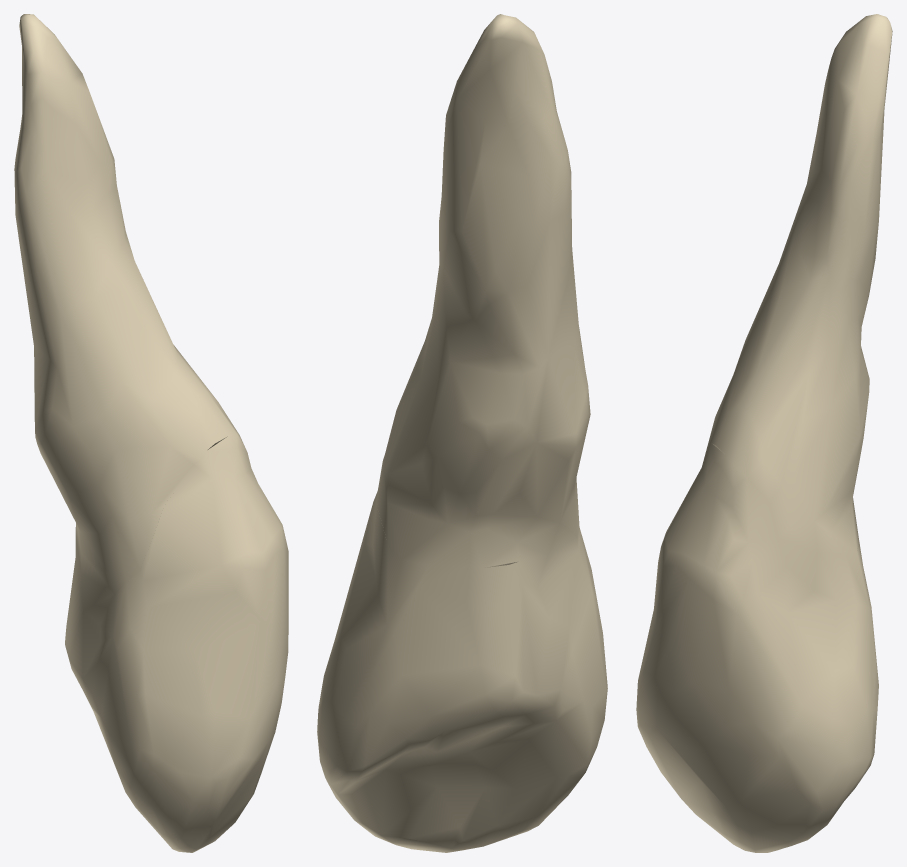
Rendered from esqueleto-upper-canine-l.glb.
3 renders of one model, left to right at view 1: azimuth 30°, elevation 25°; view 2: azimuth 150°, elevation 25°; view 3: azimuth 270°, elevation 25°, orthographic. The views are drawn at different scales.
Parts seen in each view (by area): view 1: Upper canine.l; view 2: Upper canine.l; view 3: Upper canine.l.
Part boxes in pixels (box(x1,y1,x2,y2)): Upper canine.l: box(14, 14, 288, 852); Upper canine.l: box(317, 14, 607, 852); Upper canine.l: box(636, 14, 892, 852).
Bounding box in the file's own units: 0.00905 × 0.0306 × 0.00909.
